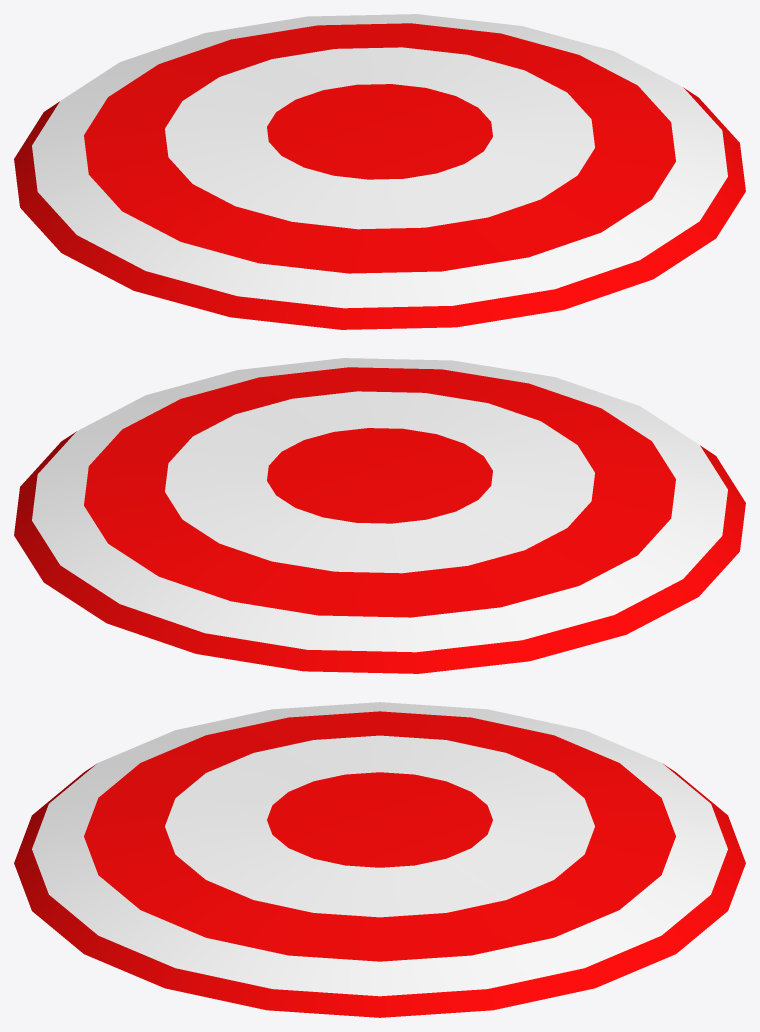
Rendered from diana.fbx.
The picture shows the model from 3 angles, top to bottom: view 1: azimuth 30°, elevation 25°; view 2: azimuth 150°, elevation 25°; view 3: azimuth 270°, elevation 25°; orthographic projection.
Visible parts, largest first — view 1: diana; view 2: diana; view 3: diana.
Part boxes in pixels (x1=…): diana: x1=14, y1=14, x2=745, y2=329; diana: x1=14, y1=358, x2=745, y2=673; diana: x1=14, y1=702, x2=745, y2=1017.
Bounding box in the file's own units: 2 × 0.1369 × 2.
